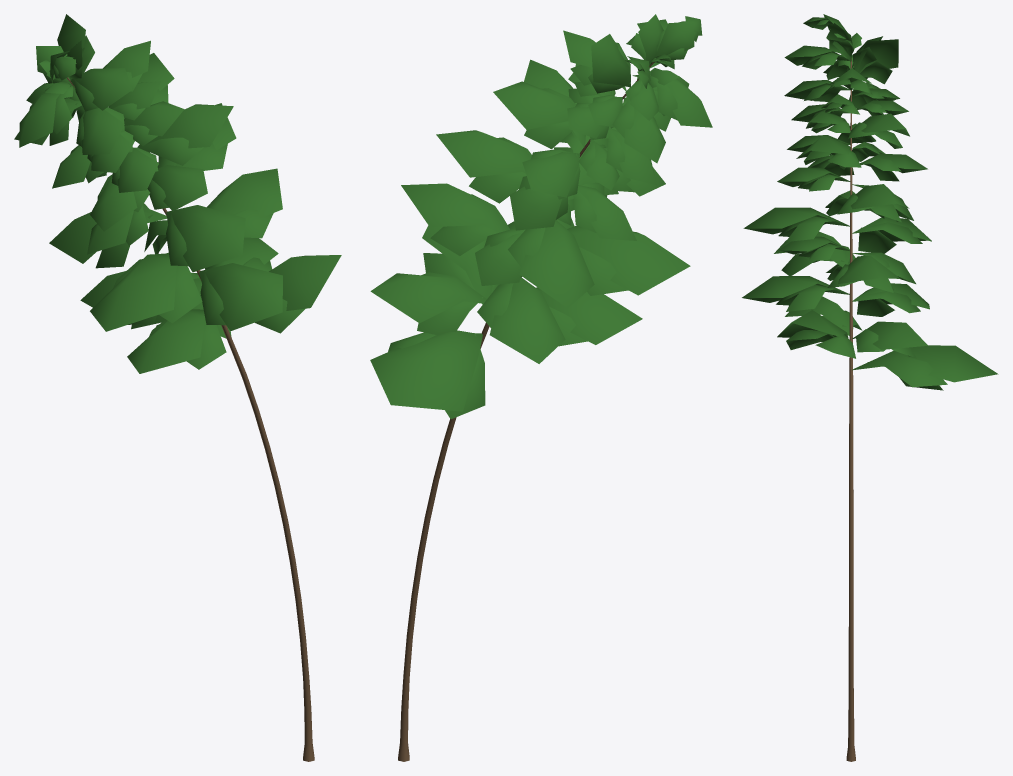
File: Bamboo_A.obj
3 renders of one model, left to right at view 1: azimuth 30°, elevation 25°; view 2: azimuth 150°, elevation 25°; view 3: azimuth 270°, elevation 25°, orthographic. The views are drawn at different scales.
Visible parts, largest first — view 1: Leaves, Trunk; view 2: Leaves, Trunk; view 3: Leaves, Trunk.
Part boxes in pixels (<box>): Leaves: <box>14,14,341,373</box>; Trunk: <box>67,77,314,761</box>; Leaves: <box>370,14,712,419</box>; Trunk: <box>398,61,654,761</box>; Leaves: <box>742,14,998,390</box>; Trunk: <box>846,58,855,761</box>.
Bounding box in the file's own units: 11.73 × 29.05 × 10.54.
